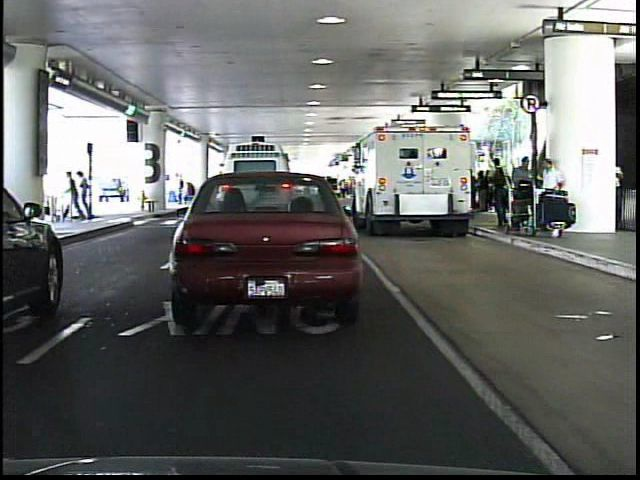person: (73, 167, 94, 223), (59, 167, 80, 223)
